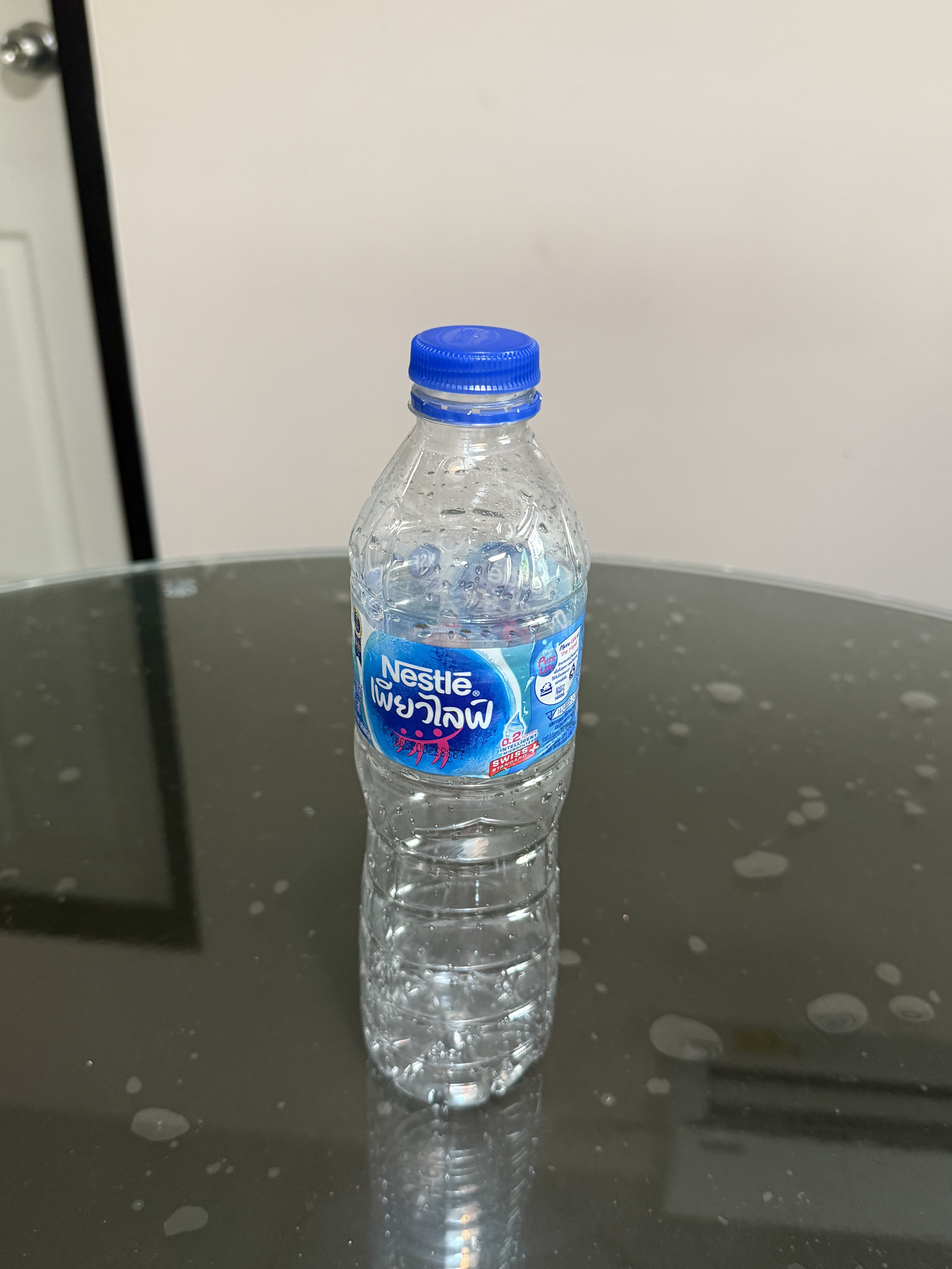half_cap: (402, 319, 545, 424)
